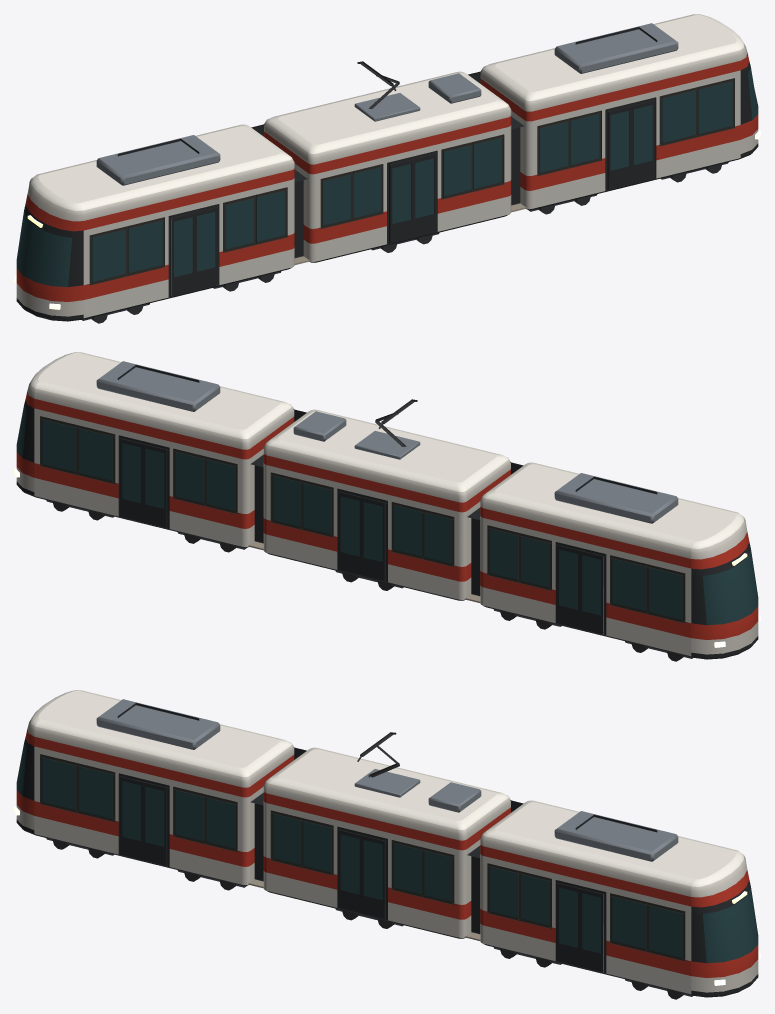
File: tram.glb
3 renders of one model, top to bottom at view 1: azimuth 30°, elevation 25°; view 2: azimuth 150°, elevation 25°; view 3: azimuth 330°, elevation 25°, orthographic.
Visible parts, largest first — view 1: roof, body, door_right_1_aft, door_right_2_aft, door_right_1_fore, door_right_0_fore, door_right_0_aft, door_right_2_fore; view 2: roof, body, door_left_1_aft, door_left_2_aft, door_left_1_fore, door_left_0_fore, door_left_0_aft, door_left_2_fore; view 3: roof, body, door_right_1_fore, door_right_0_fore, door_right_1_aft, door_right_2_aft, door_right_2_fore, door_right_0_aft.
Part boxes in pixels (left/top/right/bottom): roof: left=24, top=14, right=750, bottom=237; body: left=14, top=67, right=760, bottom=323; door_right_1_aft: left=389, top=159, right=413, bottom=243; door_right_2_aft: left=171, top=212, right=194, bottom=296; door_right_1_fore: left=413, top=153, right=436, bottom=237; door_right_0_fore: left=631, top=100, right=654, bottom=184; door_right_0_aft: left=608, top=106, right=631, bottom=189; door_right_2_fore: left=194, top=207, right=217, bottom=290; roof: left=24, top=352, right=750, bottom=575; body: left=14, top=405, right=760, bottom=661; door_left_1_aft: left=361, top=497, right=385, bottom=581; door_left_2_aft: left=580, top=550, right=603, bottom=634; door_left_1_fore: left=338, top=491, right=361, bottom=575; door_left_0_fore: left=120, top=438, right=143, bottom=522; door_left_0_aft: left=143, top=444, right=166, bottom=527; door_left_2_fore: left=557, top=545, right=580, bottom=628; roof: left=24, top=690, right=750, bottom=913; body: left=14, top=743, right=760, bottom=999; door_right_1_fore: left=361, top=835, right=385, bottom=919; door_right_0_fore: left=580, top=888, right=603, bottom=972; door_right_1_aft: left=338, top=829, right=361, bottom=913; door_right_2_aft: left=120, top=776, right=143, bottom=860; door_right_2_fore: left=143, top=782, right=166, bottom=865; door_right_0_aft: left=557, top=883, right=580, bottom=966.
Size of the model in its own units: 20.5 by 4.39 by 2.52.
